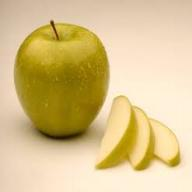apple: (12, 23, 109, 138)
